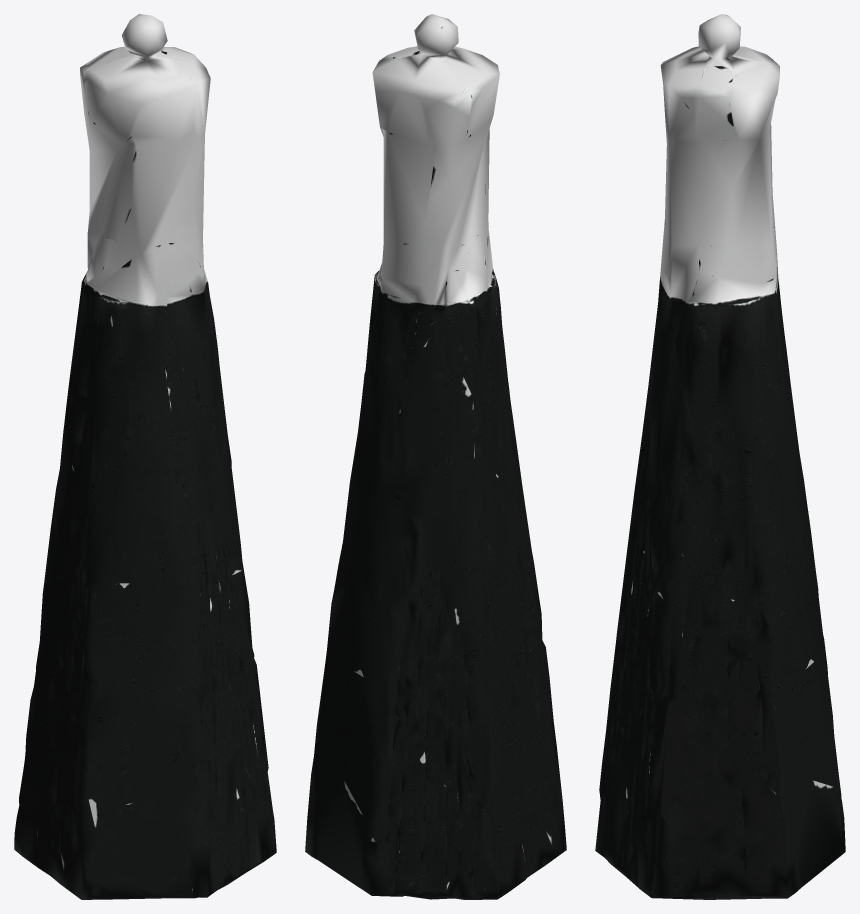
Rendered from queen-black.glb.
3 views of the same model, side by side, from view 1: azimuth 30°, elevation 25°; view 2: azimuth 150°, elevation 25°; view 3: azimuth 270°, elevation 25° (orthographic).
Bounding box in the file's own units: 0.4102 × 1.65 × 0.4459.
1 material, 1 textured.
